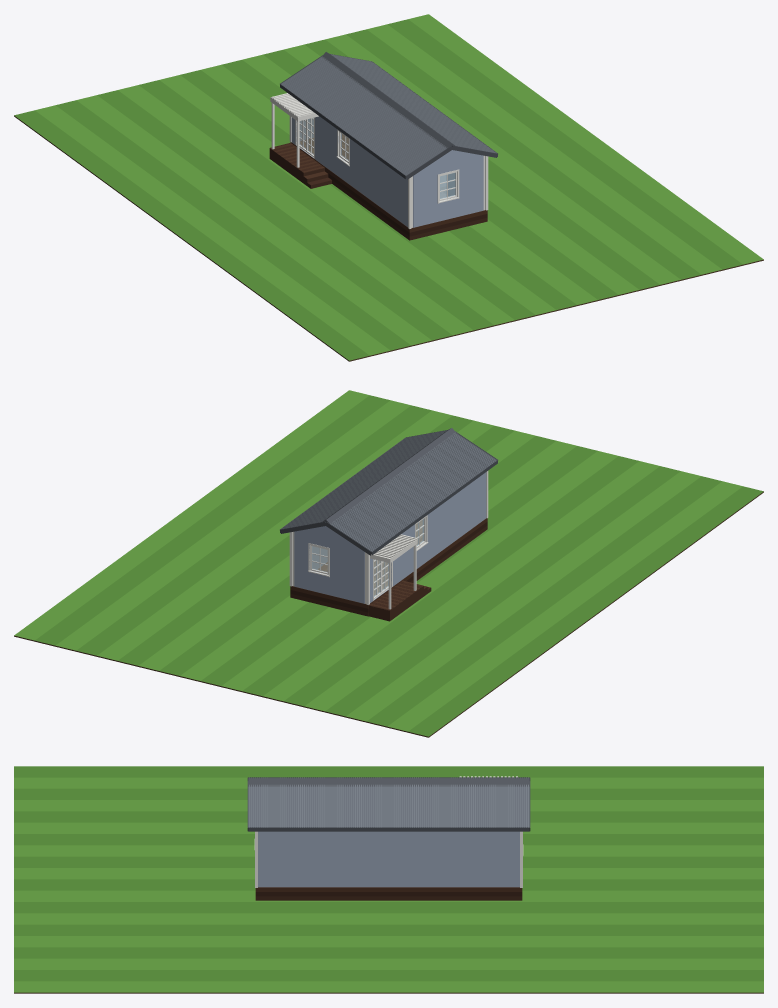
File: Studio_Model.dae
3 views of the same model, one above another, from view 1: azimuth 30°, elevation 25°; view 2: azimuth 150°, elevation 25°; view 3: azimuth 270°, elevation 25° (orthographic). The views are drawn at different scales.
Parts seen in each view (by area): view 1: Grass, Roof, Walls, Base, Windows_Doors, Deck, Pergola; view 2: Grass, Roof, Walls, Base, Windows_Doors, Deck, Pergola; view 3: Grass, Roof, Walls, Base.
Part boxes in pixels (x1,y1,x2,y2): Grass: [14, 14, 763, 361]; Roof: [280, 52, 497, 179]; Walls: [289, 116, 488, 228]; Base: [290, 142, 487, 240]; Windows_Doors: [295, 117, 459, 203]; Deck: [269, 142, 324, 183]; Pergola: [270, 93, 318, 167]; Grass: [14, 390, 763, 737]; Roof: [280, 428, 497, 555]; Walls: [289, 471, 488, 604]; Base: [290, 518, 487, 616]; Windows_Doors: [308, 515, 428, 600]; Deck: [368, 580, 423, 621]; Pergola: [370, 534, 417, 609]; Grass: [14, 766, 763, 993]; Roof: [247, 777, 530, 831]; Walls: [255, 831, 522, 887]; Base: [255, 887, 522, 900].
Bounding box in the file's own units: 20 × 28 × 4.18.
